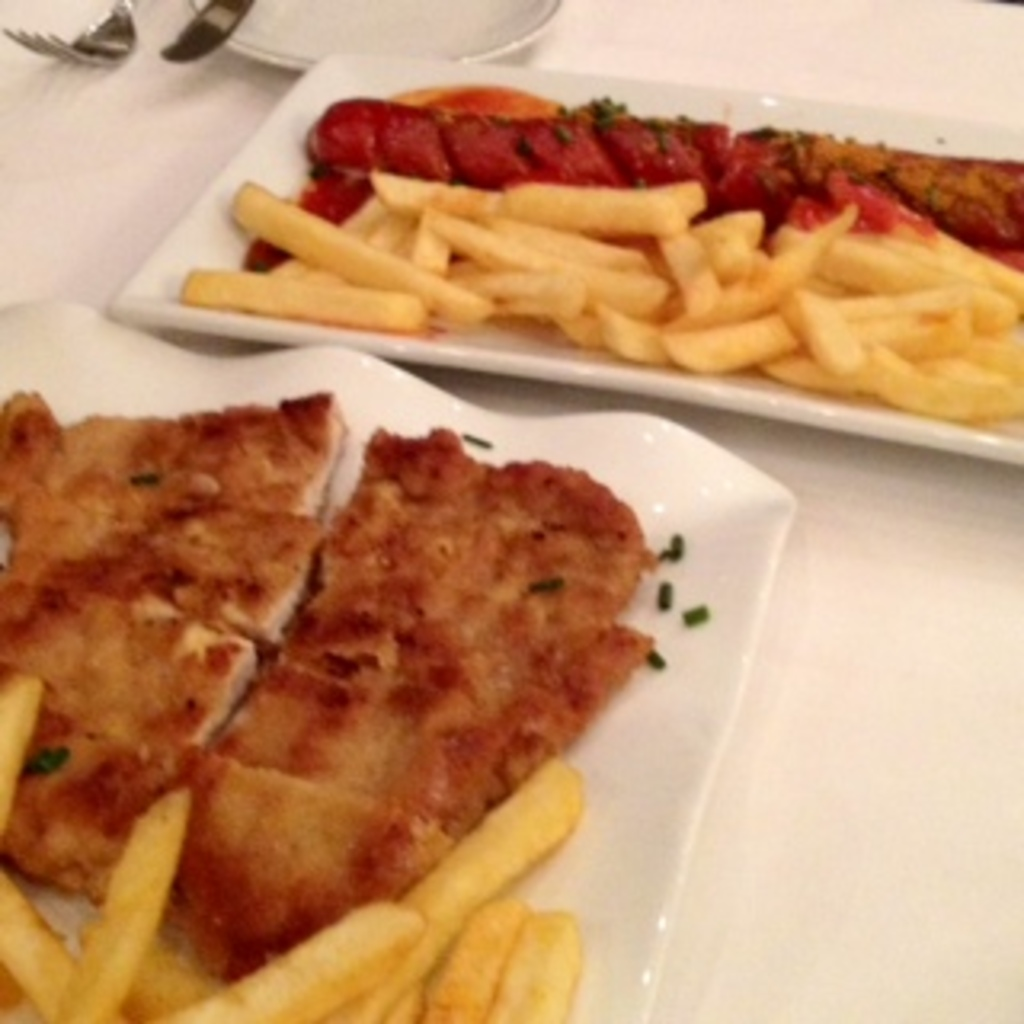French fries: (0, 665, 588, 1020), (249, 137, 1024, 384)
